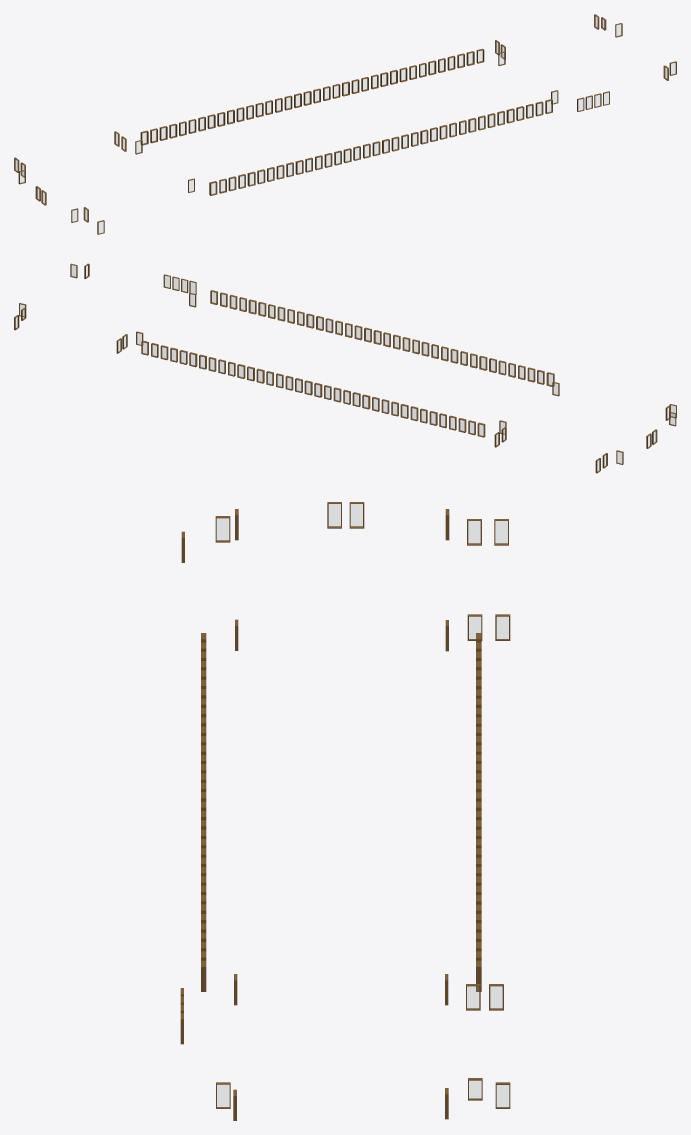
File: insaat_revit.ifc.ifc.ifc.ifc_Level 5_IfcWindow.dae
The picture shows the model from 3 angles, top to bottom: view 1: azimuth 30°, elevation 25°; view 2: azimuth 150°, elevation 25°; view 3: azimuth 270°, elevation 25°; orthographic projection. The views are drawn at different scales.
Size of the model in its own units: 76.12 by 17.86 by 2.54.
